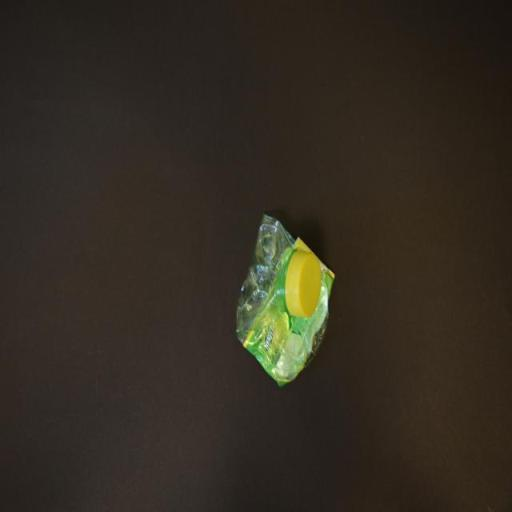plastic: (235, 212, 339, 388)
